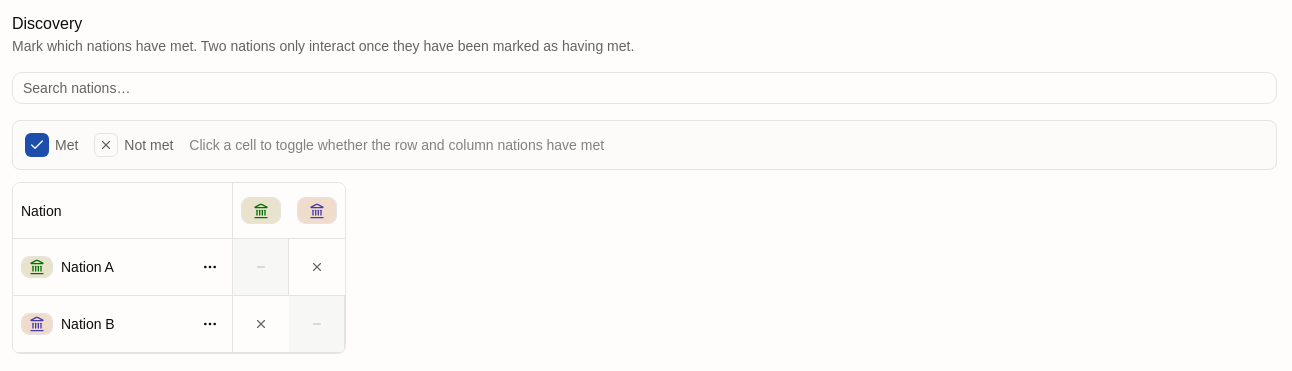
Scenario: NationDiscoveryConfigPanel › shows 'No matching nations' when the search matches nothing
Expected: the table is shown, [13,183,345,353]
Type "zzz-no-match" into the field labelled "Search nations" at (644, 88), box [12,72,1277,104]
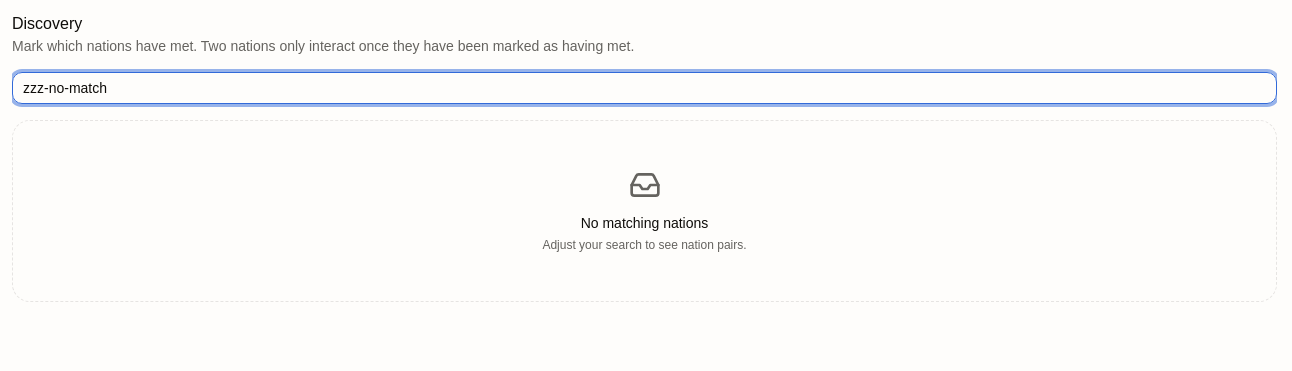
Expected: the text "No matching nations" is shown, [581,215,708,231]
